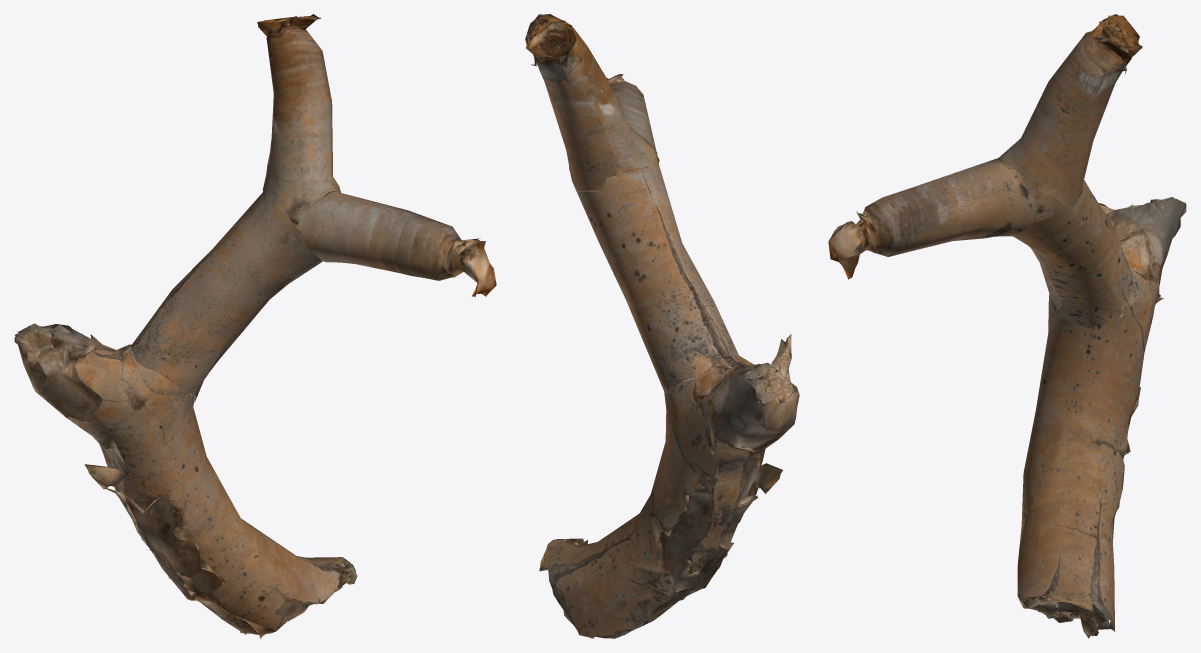
File: branch.glb
3 views of the same model, side by side, from view 1: azimuth 30°, elevation 25°; view 2: azimuth 150°, elevation 25°; view 3: azimuth 270°, elevation 25° (orthographic). The views are drawn at different scales.
Parts seen in each view (by area): view 1: dead_quiver_branch_01; view 2: dead_quiver_branch_01; view 3: dead_quiver_branch_01.
Boxes of the visible parts, x1=… form: dead_quiver_branch_01: x1=14, y1=14, x2=496, y2=638; dead_quiver_branch_01: x1=525, y1=14, x2=799, y2=638; dead_quiver_branch_01: x1=828, y1=14, x2=1186, y2=638.
Size of the model in its own units: 0.81 by 1.4 by 0.7214.
Materials: 1 (1 with a texture image).
